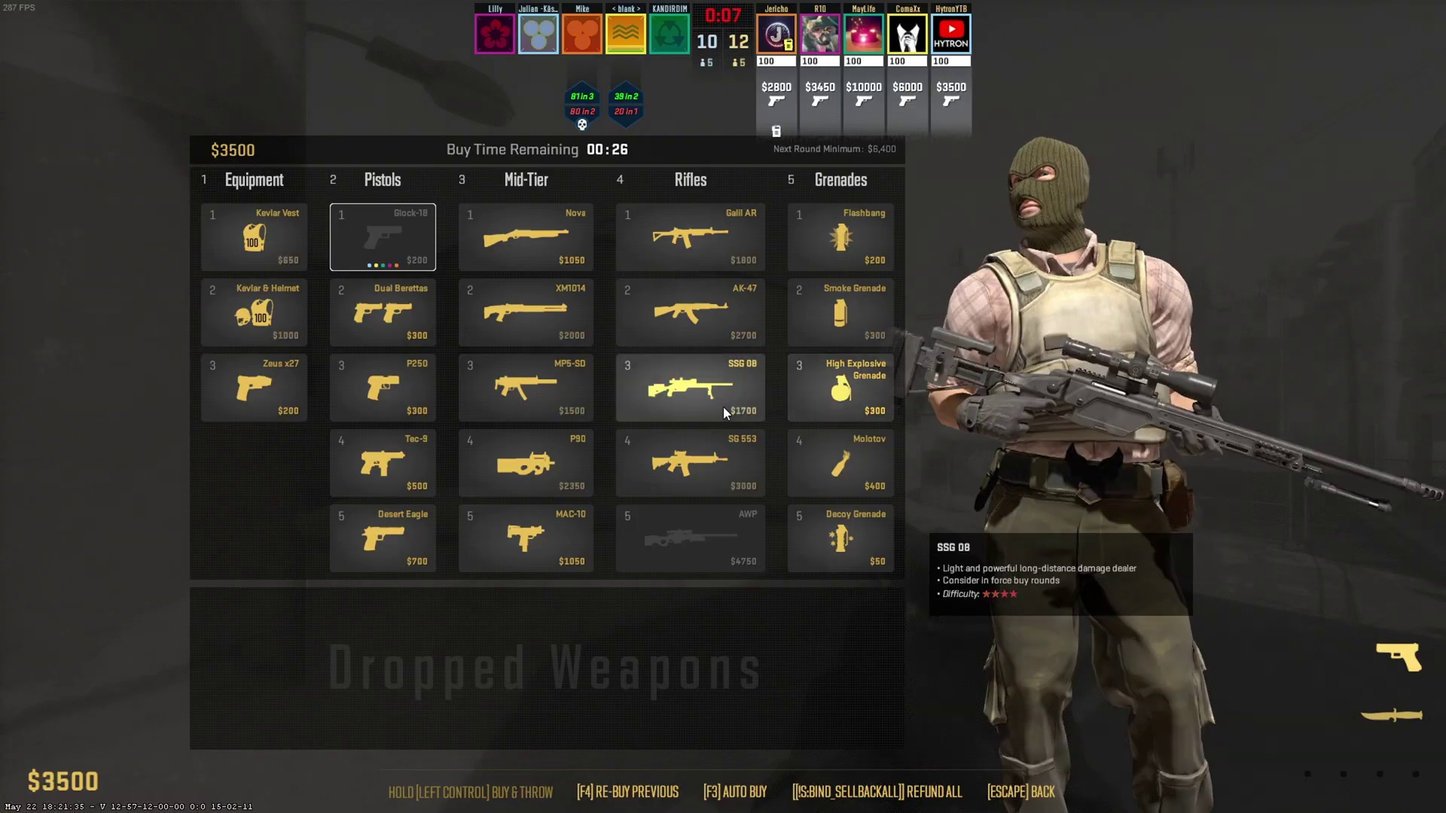Terrorist: (952, 142, 1225, 806)
